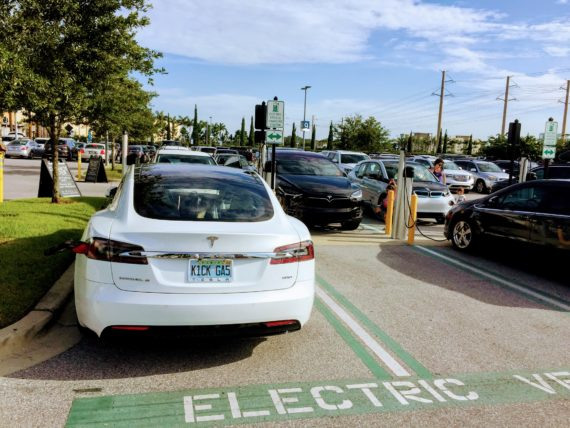license plate: (186, 255, 234, 285)
